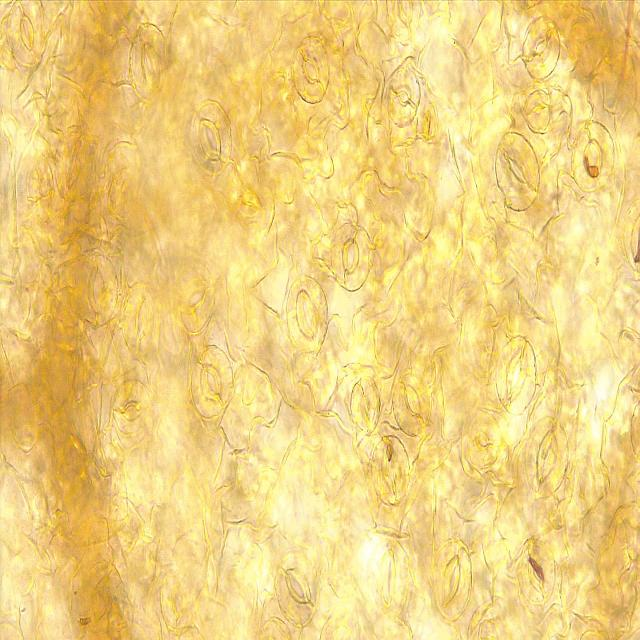Stomata: (494, 130, 541, 216), (524, 415, 571, 501), (273, 550, 322, 630), (128, 19, 173, 106), (493, 332, 538, 417), (285, 274, 330, 359), (369, 533, 411, 622), (73, 249, 119, 330), (432, 537, 474, 625), (188, 97, 234, 176), (172, 260, 217, 339), (570, 119, 616, 194), (52, 124, 94, 205), (190, 342, 234, 419), (390, 367, 434, 441), (329, 220, 373, 294), (370, 433, 412, 508), (4, 0, 47, 72), (120, 280, 158, 358), (520, 13, 561, 83), (292, 34, 330, 106), (159, 564, 198, 633), (520, 534, 557, 606), (110, 375, 151, 438), (386, 63, 422, 130), (466, 410, 503, 471), (348, 373, 382, 436), (384, 0, 422, 41), (622, 196, 640, 279), (524, 85, 552, 134)
